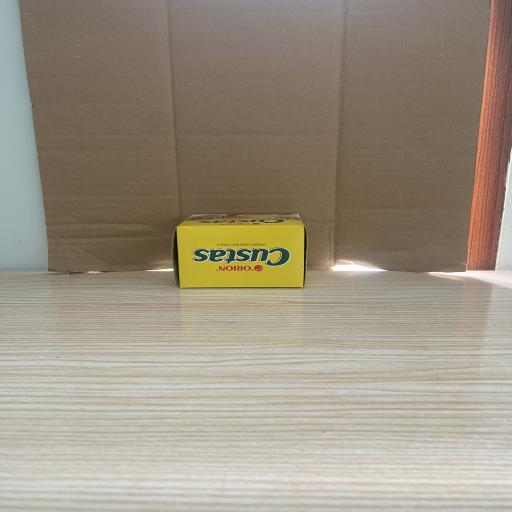custas: (172, 213, 307, 288)
